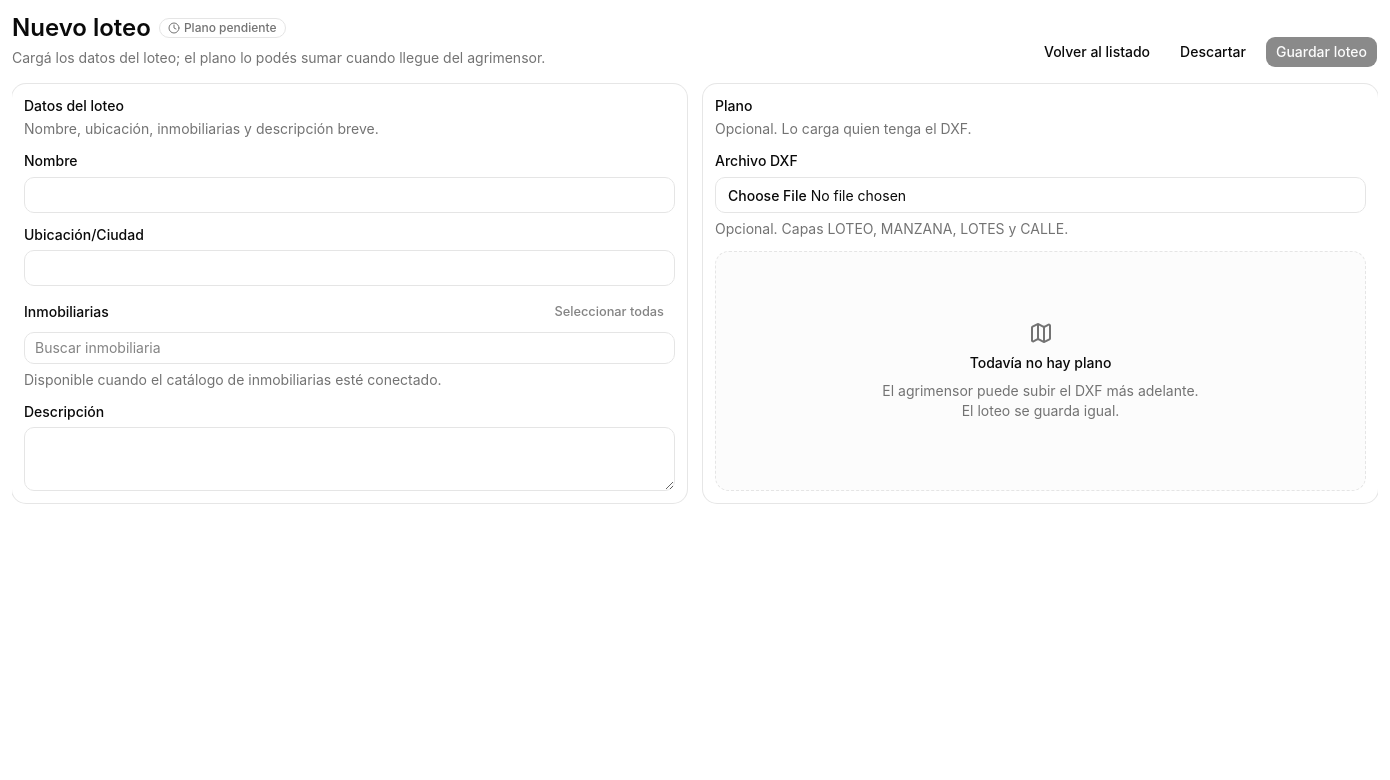
LotsPage › asks the user to sign in again when there is no session
Type "Las Acacias" into the field labelled "Nombre" at (350, 194), box [24,176,675,212]
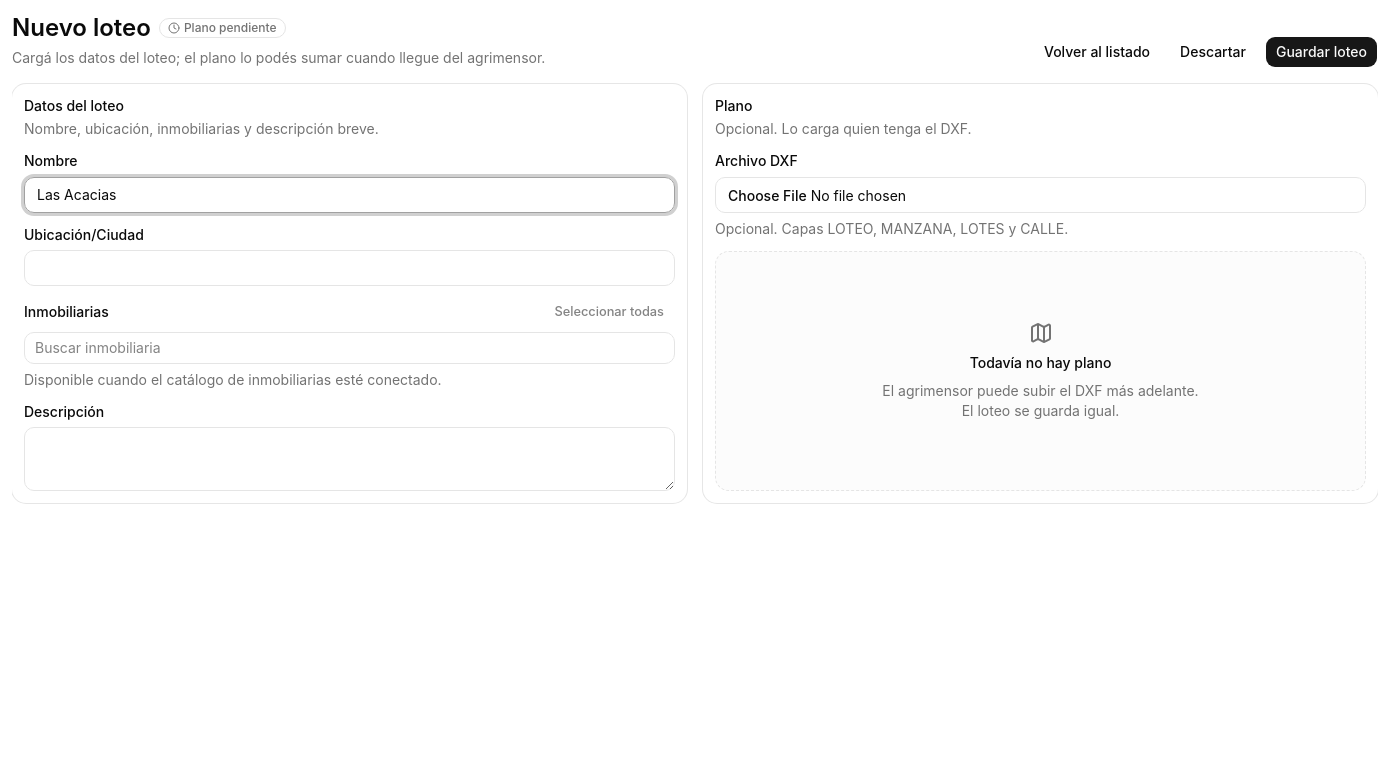
Click the button "Guardar loteo" at (1322, 52), box [1265,36,1378,68]
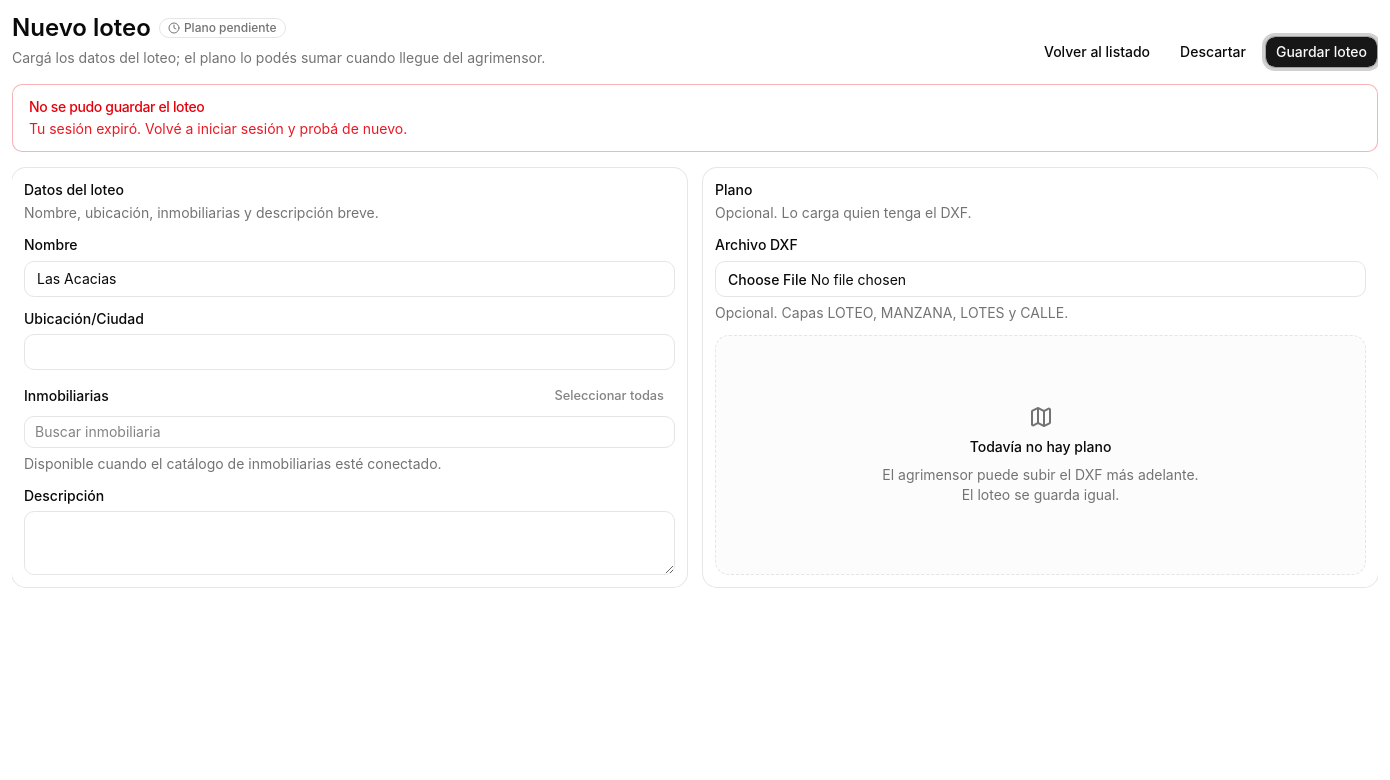
Now the text "Tu sesión expiró. Volvé a iniciar sesión y probá de nuevo." is shown, box [29,120,407,137]
